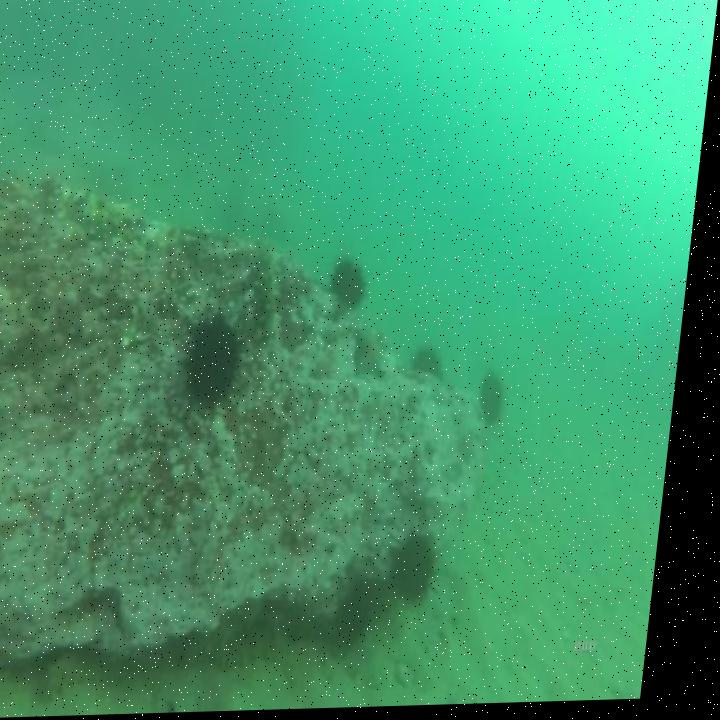echinus: (178, 304, 266, 431), (392, 516, 463, 621), (344, 560, 404, 661), (328, 247, 380, 319), (483, 371, 519, 436), (417, 339, 458, 389)
holothurian: (55, 644, 144, 707), (211, 619, 300, 676), (250, 252, 297, 340)
starfish: (356, 326, 404, 386)
